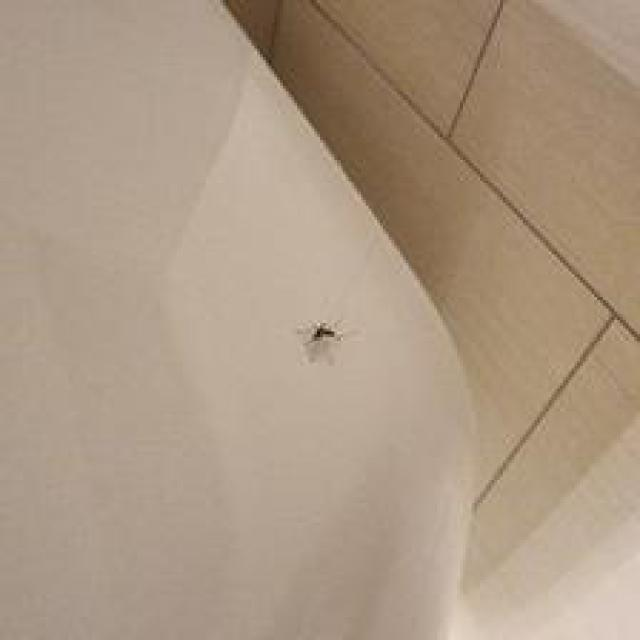Culex: (303, 322, 343, 347)
